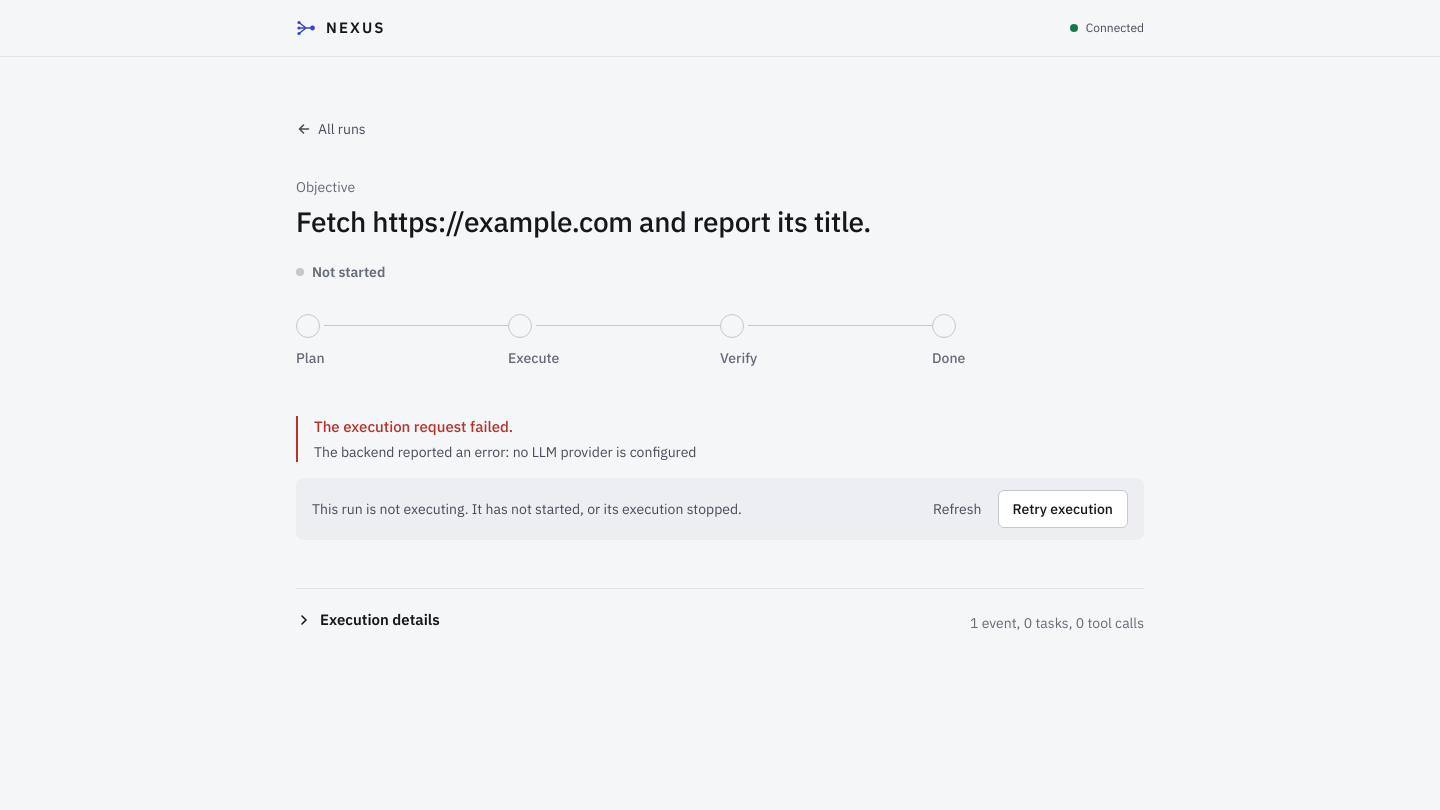
Run page › keeps the retry behaviour: a failed /execute can be retried from the run page, once at a time
The image size is (1440, 810).
Expected: the message that starts with "The execution request failed." is shown, [314,416,513,436]
Expected: the message that starts with "The execution request failed." shows "no LLM provider is configured", [314,443,696,461]
What coordinates should you click on to do the following:
click the button "Retry execution"
I would click on:
 (1063, 509)
Its box is [998,490,1128,528].
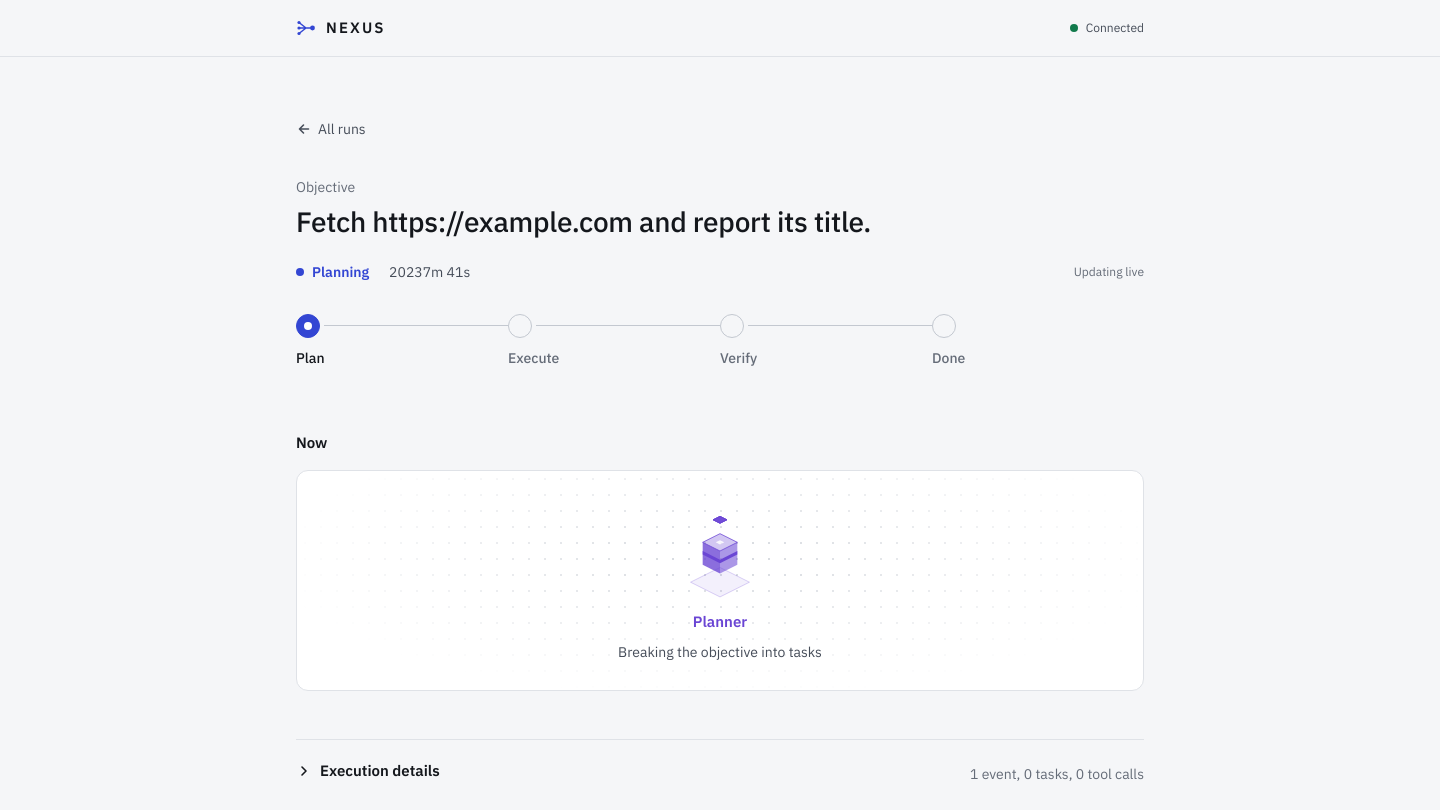
Expected: the message named "Run status" reads "Planning", [312,262,369,280]
